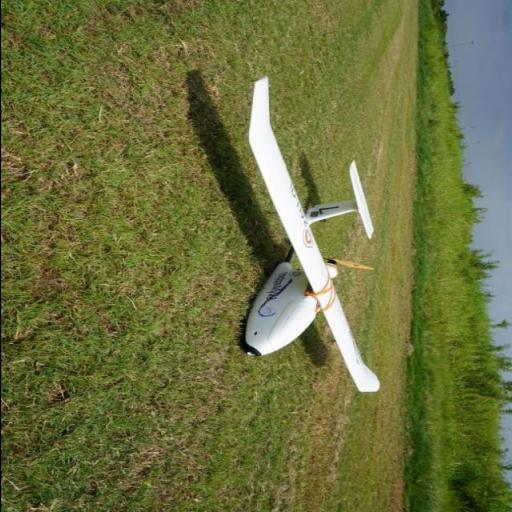uav: (192, 68, 400, 406)
